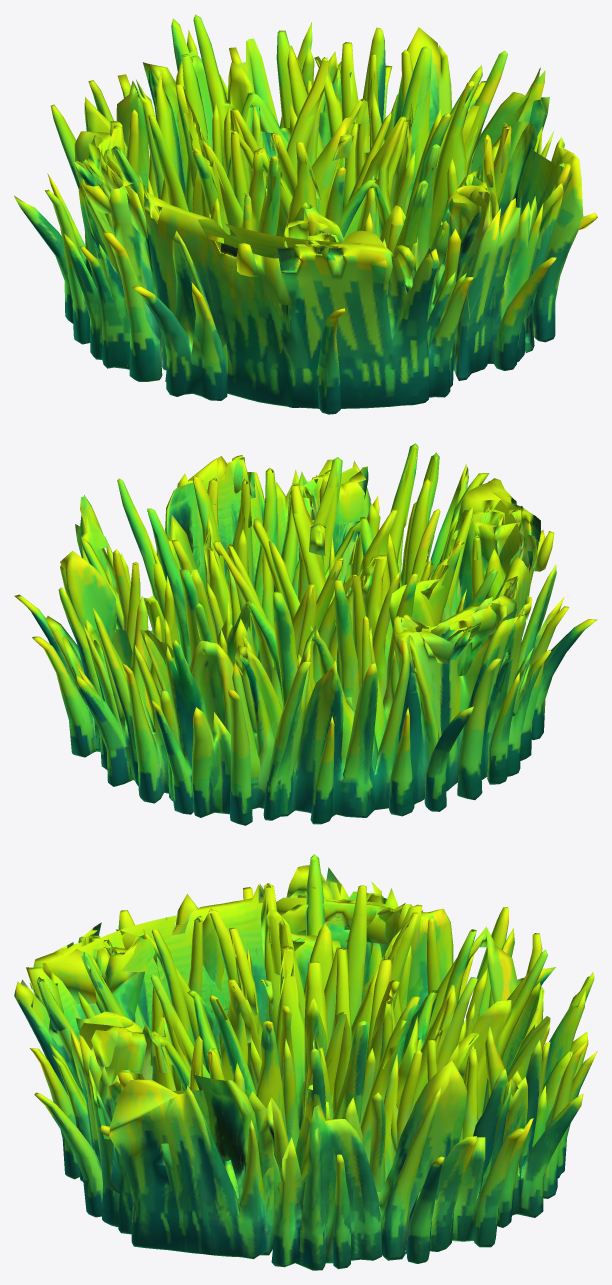
Rendered from tall_grass.glb.
The picture shows the model from 3 angles, top to bottom: view 1: azimuth 30°, elevation 25°; view 2: azimuth 150°, elevation 25°; view 3: azimuth 270°, elevation 25°; orthographic projection. The views are drawn at different scales.
Size of the model in its own units: 1.87 by 0.8063 by 1.93.
1 material, 1 textured.
